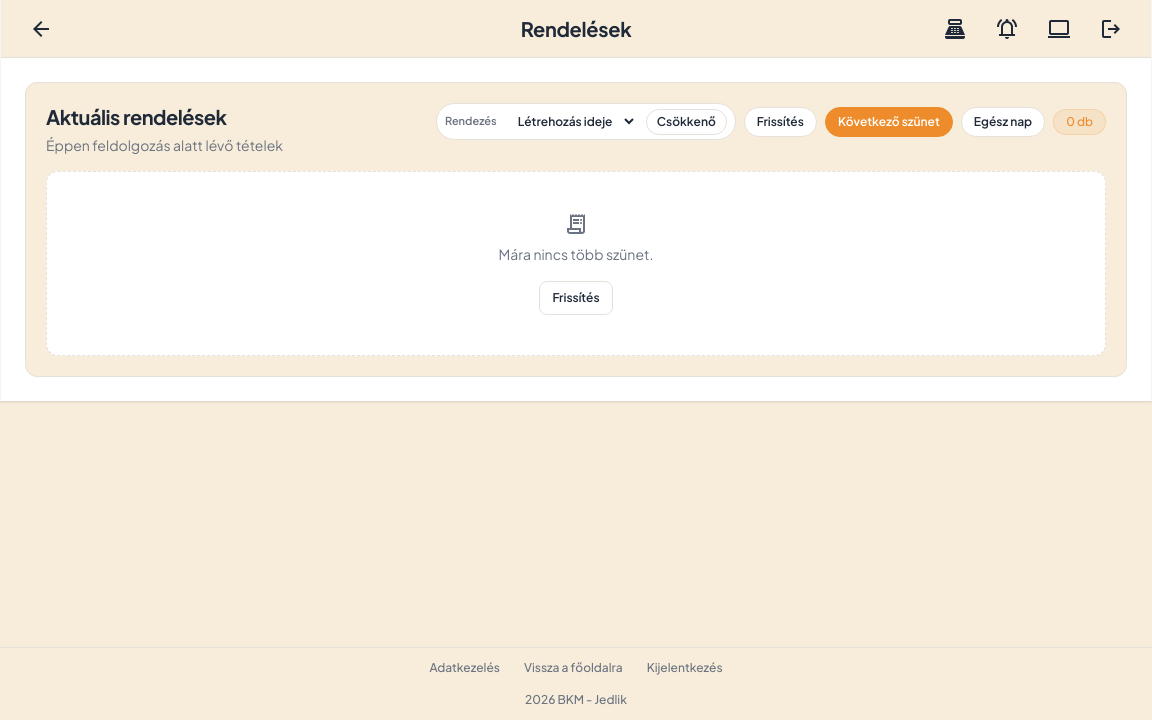
admin orders page › toggles sort direction button text
Click the button "Csökkenő". click: (687, 122)
box: x1=646 y1=109 x2=727 y2=135
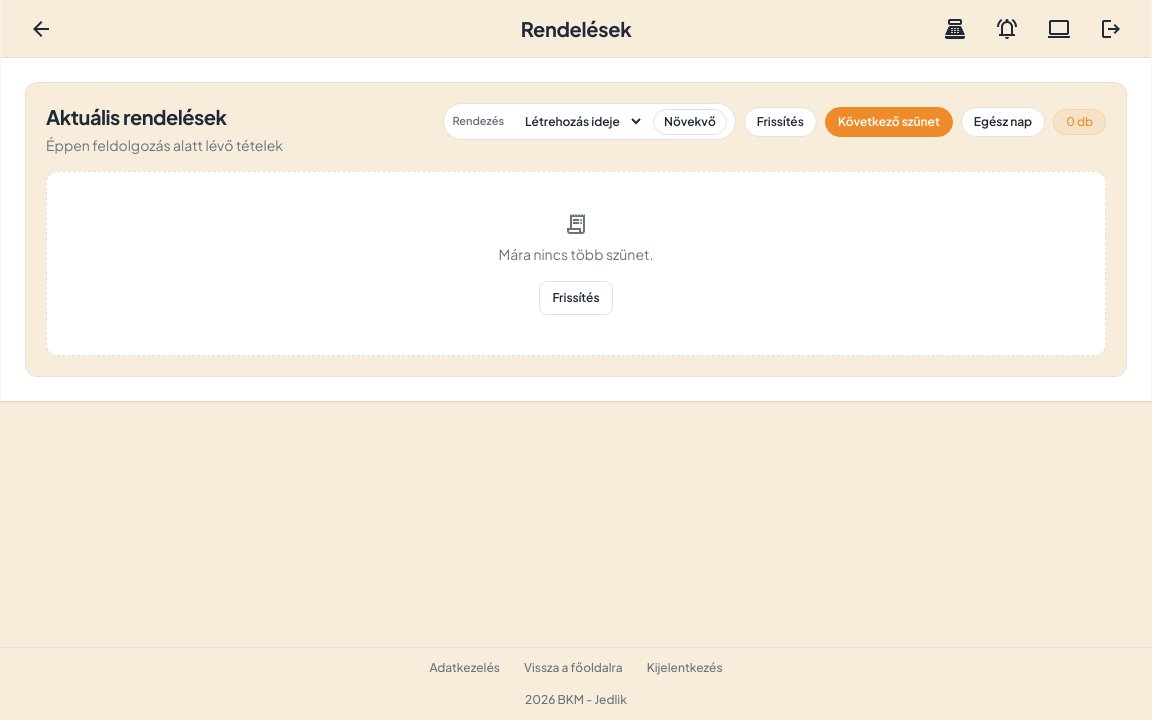
Result: the button "Növekvő" is shown at x1=653 y1=108 x2=727 y2=134
